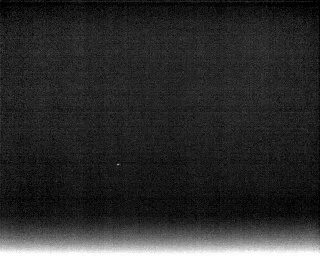AIRPLANE: (114, 160, 122, 170)
